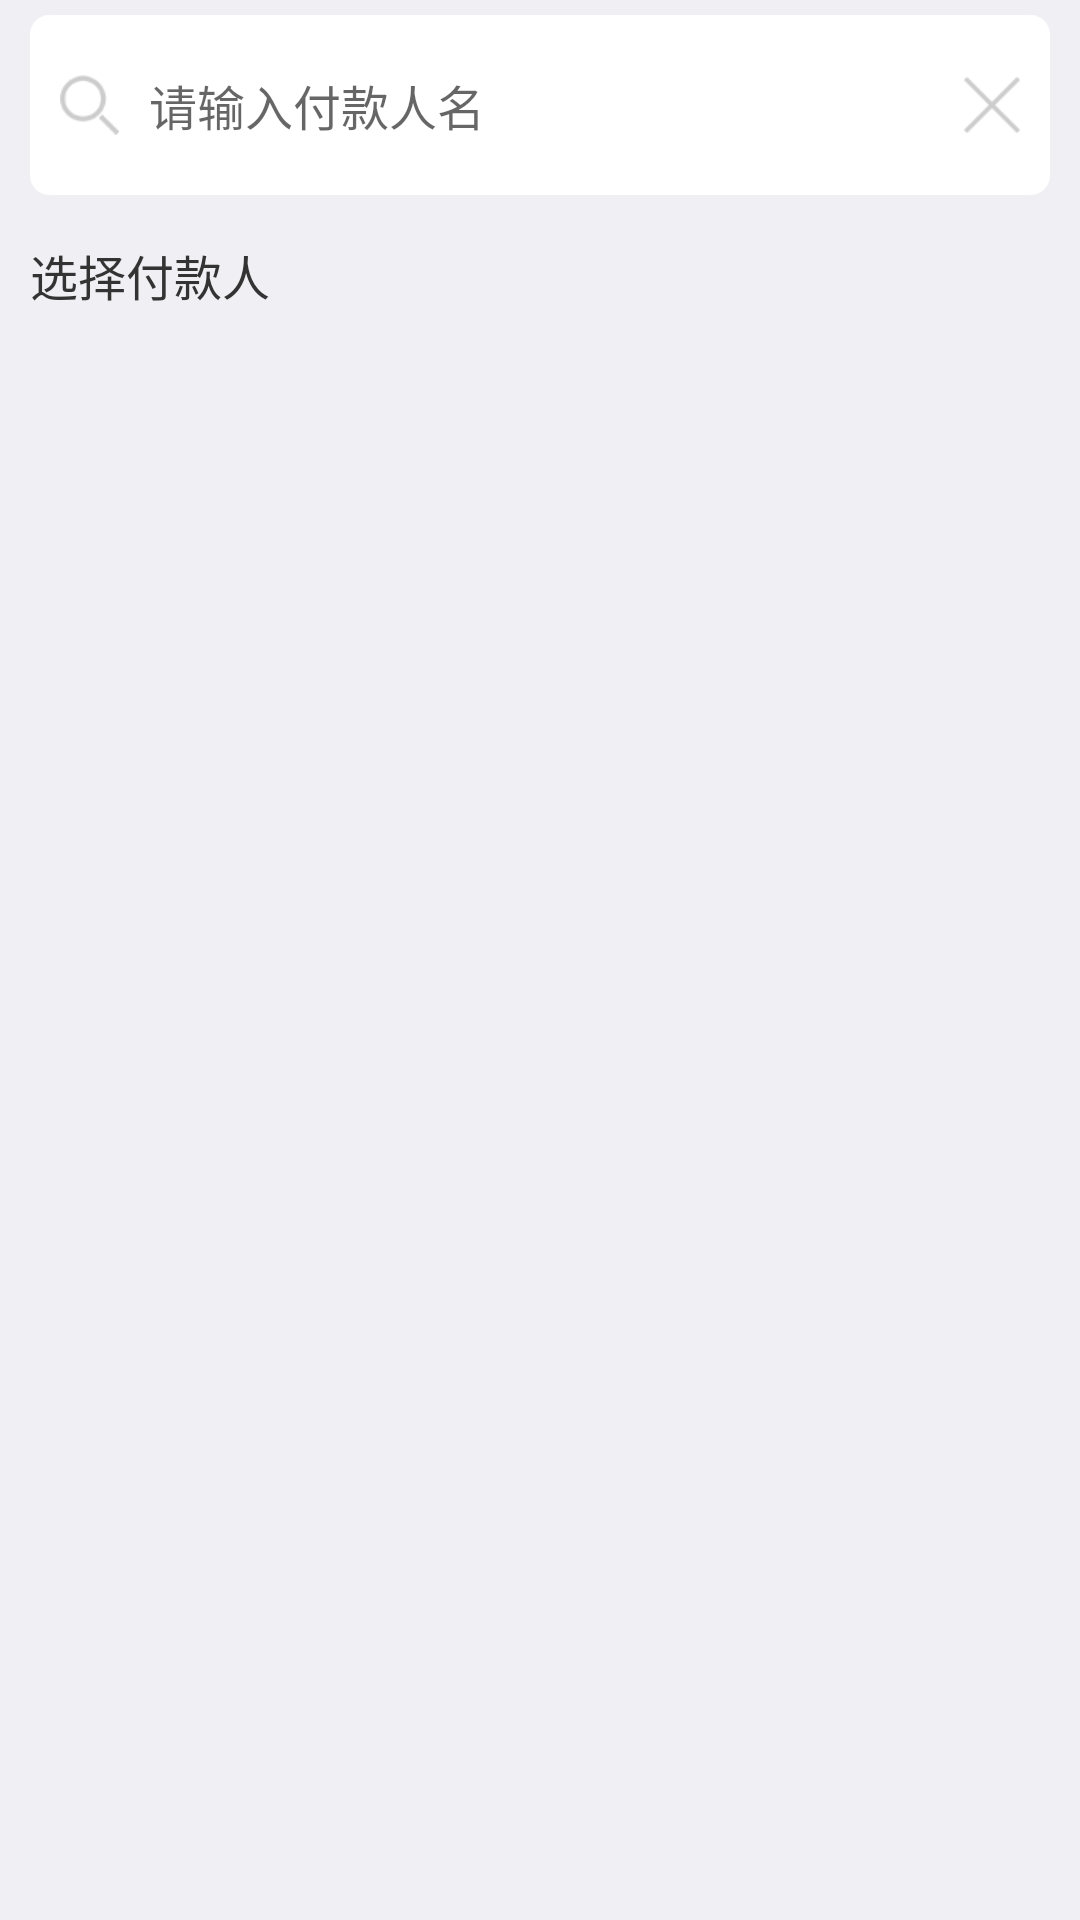

Point at icon controls on the screen. Image size 1080px×1920px, points as [x,y].
close: [992,105]
search: [89,105]
